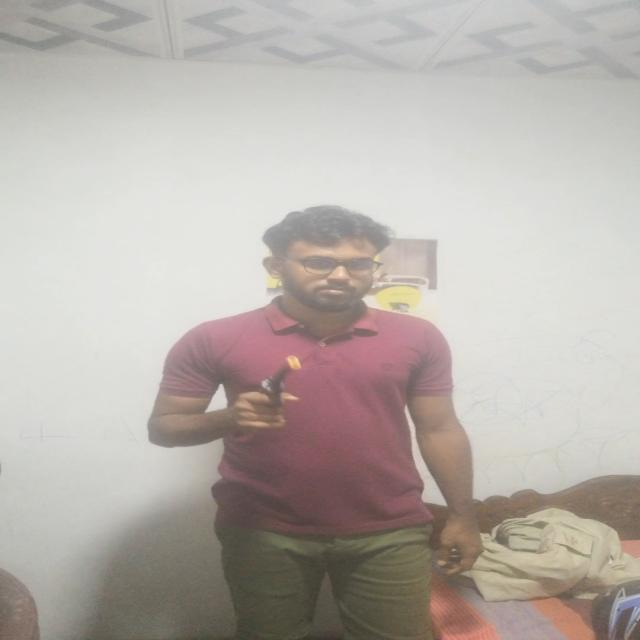Gun_Holder: (222, 353, 307, 425)
Person: (139, 202, 489, 640)
